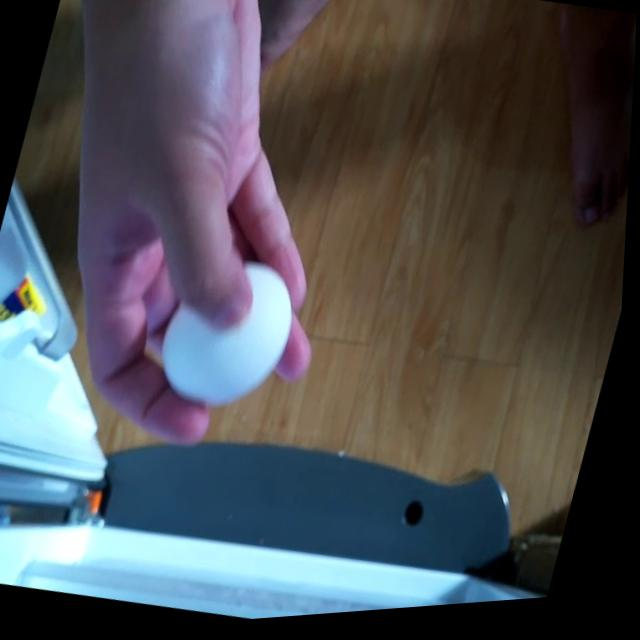egg: (149, 245, 317, 433)
